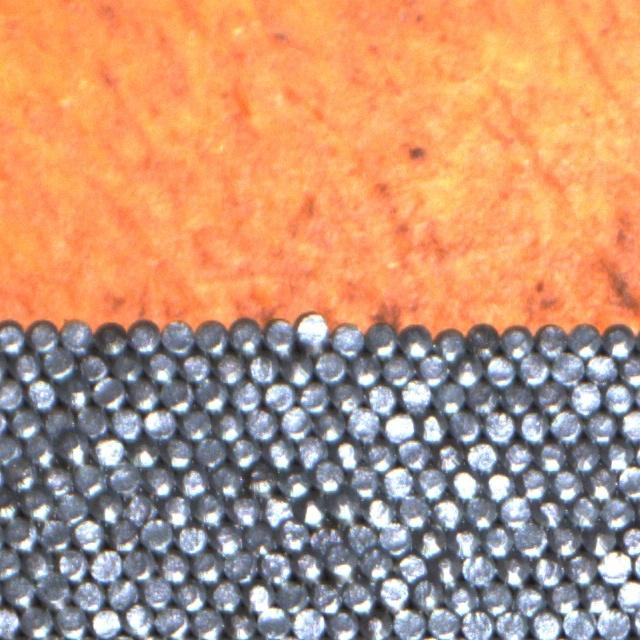tool: (567, 322, 601, 358), (60, 317, 94, 353), (262, 318, 296, 354), (160, 318, 194, 354), (228, 318, 262, 353), (296, 313, 330, 348), (348, 407, 382, 441), (88, 604, 122, 638), (123, 546, 157, 580), (482, 468, 516, 502), (516, 351, 550, 385), (597, 606, 631, 640), (92, 376, 126, 410), (37, 574, 71, 608), (534, 381, 568, 415), (550, 352, 584, 386), (584, 351, 618, 385), (38, 519, 72, 553), (41, 404, 75, 438), (602, 324, 636, 358), (365, 322, 398, 357), (195, 318, 228, 353), (89, 547, 122, 581), (400, 378, 433, 412), (228, 434, 262, 467), (331, 320, 364, 354), (568, 380, 602, 413), (517, 409, 550, 443), (144, 406, 177, 440), (195, 434, 228, 468), (178, 350, 212, 383), (229, 377, 262, 411), (191, 607, 225, 640), (401, 326, 434, 360), (466, 381, 500, 414), (348, 354, 382, 387), (76, 405, 110, 438), (141, 518, 175, 551), (26, 318, 59, 352), (382, 353, 416, 386), (195, 378, 228, 412), (193, 492, 227, 525), (156, 604, 189, 638), (105, 576, 139, 609), (55, 604, 88, 638), (110, 349, 144, 382), (160, 378, 193, 412), (107, 518, 141, 551), (59, 434, 92, 468), (127, 319, 159, 354), (551, 409, 584, 442), (247, 351, 280, 384), (42, 346, 75, 379), (481, 524, 514, 557), (584, 410, 617, 443), (431, 496, 464, 529), (314, 349, 347, 382), (176, 521, 209, 554), (501, 381, 534, 414), (378, 576, 411, 609), (246, 406, 279, 439), (175, 579, 208, 612), (343, 580, 376, 613), (417, 352, 450, 385), (365, 381, 398, 414), (20, 605, 53, 638), (549, 524, 582, 557), (292, 607, 325, 640), (127, 377, 160, 410), (212, 351, 245, 384), (5, 458, 38, 491), (393, 607, 426, 640), (179, 407, 212, 440), (228, 493, 261, 526), (332, 380, 365, 413), (600, 495, 633, 528), (2, 572, 35, 605), (498, 554, 531, 587), (76, 352, 109, 385), (74, 462, 107, 495), (514, 523, 547, 556), (551, 468, 584, 501), (296, 435, 329, 468), (108, 462, 141, 495), (432, 439, 465, 472), (210, 463, 243, 496), (279, 467, 312, 500), (281, 353, 314, 386), (563, 607, 596, 640), (259, 550, 292, 583), (280, 404, 312, 438), (140, 576, 174, 608), (123, 602, 155, 636), (382, 411, 416, 443), (428, 606, 460, 640), (463, 552, 497, 584), (466, 438, 498, 472), (568, 438, 600, 472), (314, 408, 346, 442), (21, 485, 53, 519), (262, 380, 296, 412), (245, 462, 277, 496), (124, 491, 158, 523), (466, 325, 498, 359), (209, 578, 241, 612), (26, 376, 58, 409), (482, 410, 515, 442), (72, 578, 105, 610), (190, 550, 223, 582), (450, 409, 482, 442), (24, 432, 57, 464), (602, 380, 634, 413), (144, 350, 177, 382), (224, 547, 256, 580), (293, 549, 325, 582), (415, 466, 448, 498), (277, 518, 309, 551), (93, 434, 126, 466), (516, 467, 549, 499), (584, 468, 617, 500), (398, 494, 431, 526), (533, 496, 566, 528), (382, 465, 414, 498), (531, 553, 564, 585), (72, 518, 105, 550), (499, 495, 532, 527), (451, 356, 484, 388), (464, 495, 497, 527), (22, 547, 54, 580), (416, 410, 448, 443), (56, 547, 88, 580), (548, 581, 581, 613), (481, 583, 514, 615), (157, 550, 190, 582), (161, 435, 193, 468), (277, 578, 310, 610), (534, 439, 566, 472), (434, 327, 466, 360), (414, 525, 447, 557), (144, 463, 176, 496), (399, 436, 431, 469), (176, 465, 209, 497), (8, 406, 41, 438), (312, 461, 345, 493), (565, 552, 598, 584), (212, 408, 244, 441), (461, 608, 494, 640), (328, 489, 360, 522), (160, 493, 192, 526), (535, 322, 567, 355), (211, 522, 244, 554), (110, 406, 142, 439), (308, 520, 341, 552), (5, 517, 38, 549), (364, 439, 396, 472), (262, 494, 295, 526), (361, 548, 394, 580), (310, 579, 342, 612), (93, 490, 125, 523), (55, 491, 88, 523), (514, 583, 546, 616), (58, 376, 91, 408), (257, 605, 290, 637), (96, 321, 128, 354), (581, 583, 615, 614), (530, 608, 562, 640), (380, 521, 412, 553), (299, 381, 331, 413), (599, 550, 631, 582), (567, 495, 599, 527), (396, 550, 428, 582), (484, 354, 516, 386), (430, 554, 462, 586), (364, 495, 396, 527), (128, 436, 160, 468), (244, 524, 276, 556), (434, 381, 466, 413), (347, 521, 379, 553), (264, 436, 296, 468), (449, 526, 481, 558), (327, 551, 359, 583), (586, 525, 618, 557), (500, 326, 532, 358), (42, 464, 74, 496), (9, 349, 41, 381), (500, 440, 532, 472), (297, 495, 329, 527), (412, 578, 444, 610), (327, 609, 360, 640), (347, 465, 380, 496), (496, 609, 528, 640), (450, 468, 482, 499), (225, 609, 257, 640), (245, 583, 277, 614), (447, 584, 479, 615), (332, 438, 364, 469), (602, 439, 634, 470), (362, 609, 394, 640), (0, 320, 26, 354), (615, 578, 640, 610), (0, 378, 24, 410), (0, 433, 23, 465), (617, 466, 640, 498), (619, 407, 640, 440), (618, 524, 640, 555), (619, 354, 640, 386), (0, 605, 20, 638), (0, 546, 20, 578), (0, 488, 20, 520)
